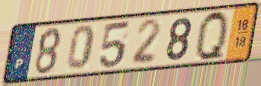0: (66, 23, 97, 73)
2: (130, 17, 163, 66)
5: (97, 19, 132, 70)
8: (33, 27, 63, 76), (166, 16, 193, 61)
Q: (195, 8, 230, 63)
